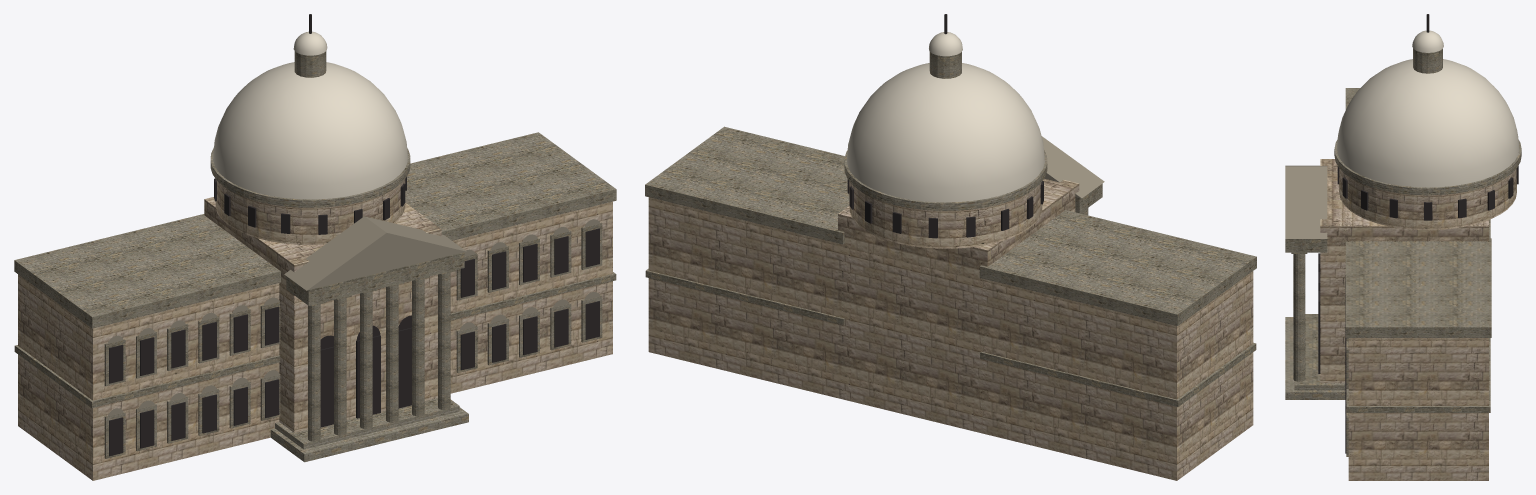
The model's file is cairo_university.glb.
The picture shows the model from 3 angles, left to right: view 1: azimuth 30°, elevation 25°; view 2: azimuth 150°, elevation 25°; view 3: azimuth 270°, elevation 25°; orthographic projection. The views are drawn at different scales.
Visible parts, largest first — view 1: cairo_university; view 2: cairo_university; view 3: cairo_university.
Part boxes in pixels (x1,y1,x2,y2): cairo_university: [14, 14, 616, 480]; cairo_university: [645, 14, 1256, 480]; cairo_university: [1285, 14, 1521, 480].
Size of the model in its own units: 12.1 by 8.2 by 5.05.
Materials: 4 (2 with a texture image).
